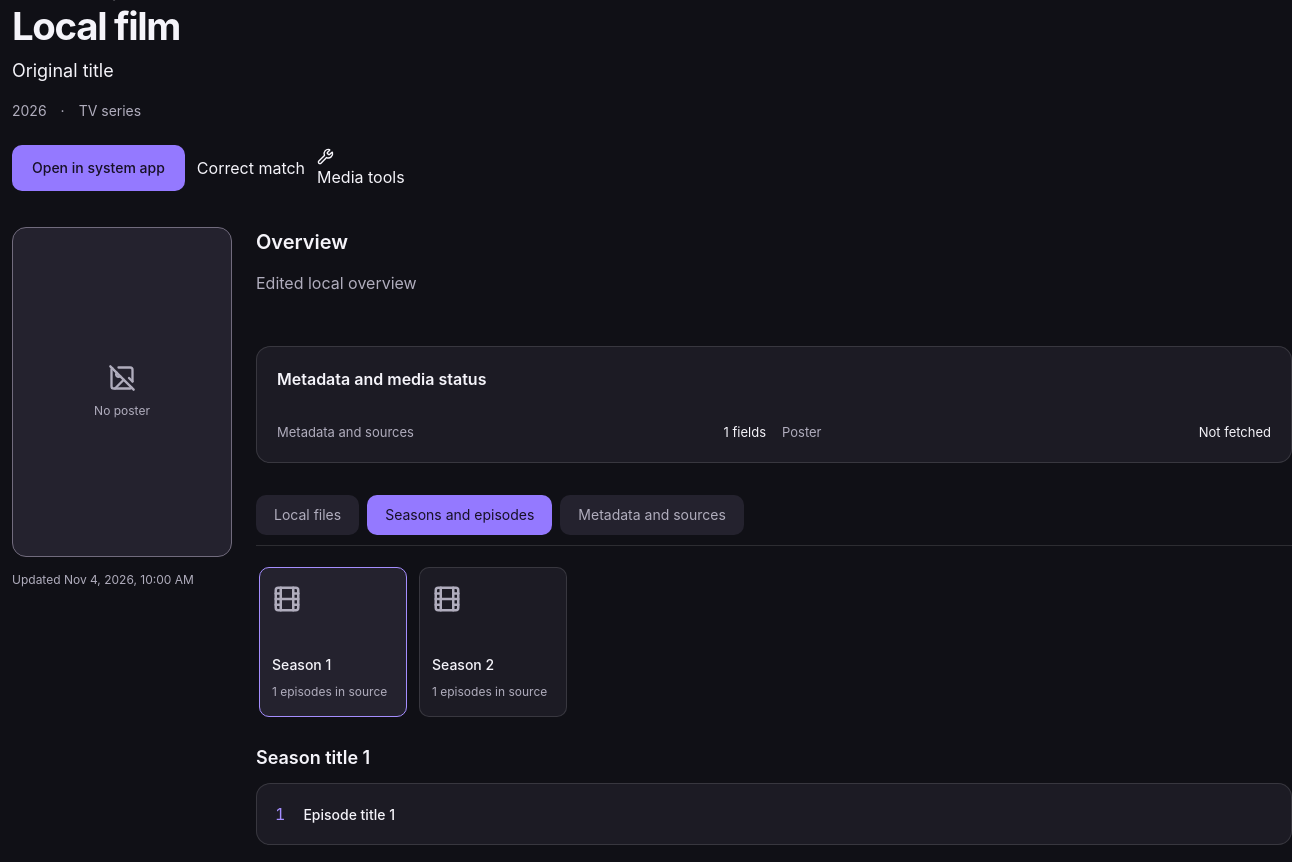
Test: browses source seasons without local file claims and preserves the source
The width and height of the screenshot is (1292, 862).
Click the button "Season 2 1 episodes in source" at (493, 642), box left=419, top=567, right=567, bottom=717
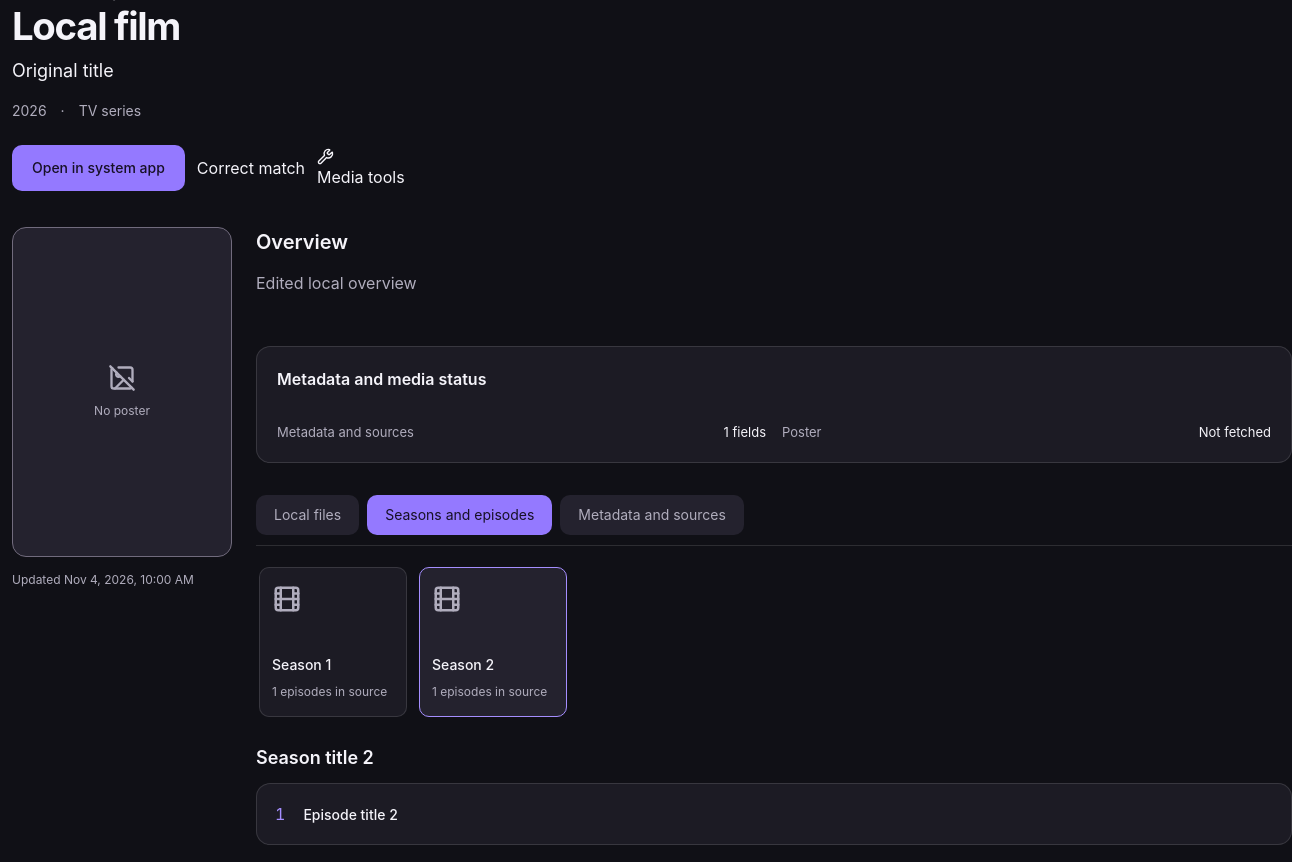
Check: the heading "Episode title 2" is shown, box left=303, top=804, right=398, bottom=825
Check: the heading "Episode title 1" is gone
Click the tab "Metadata and sources" at (652, 515), box left=560, top=495, right=744, bottom=535
(page scrolled)
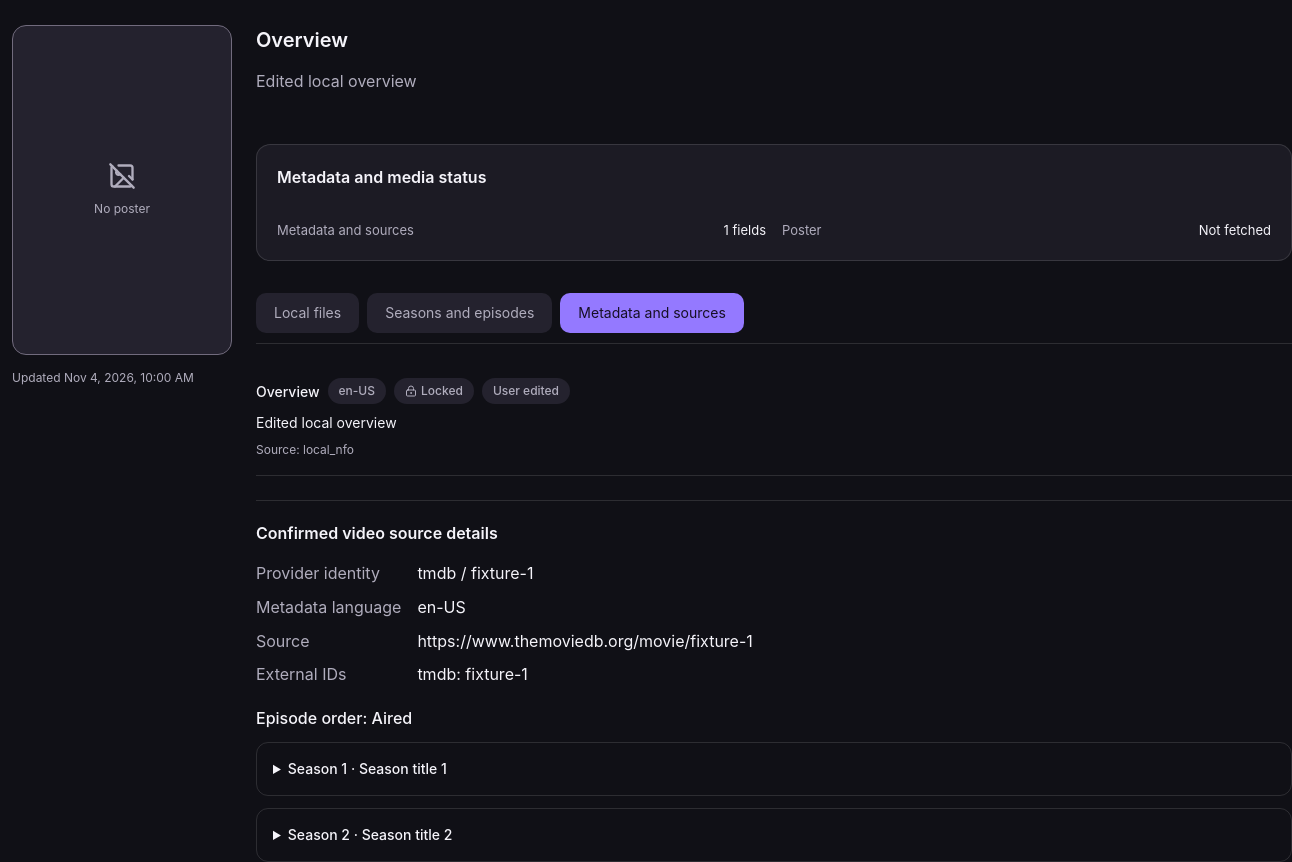
Check: the text "https://www.themoviedb.org/movie/fixture-1" is shown, box left=417, top=631, right=753, bottom=651
Check: the heading "Episode order: Aired" is shown, box left=256, top=708, right=412, bottom=728
